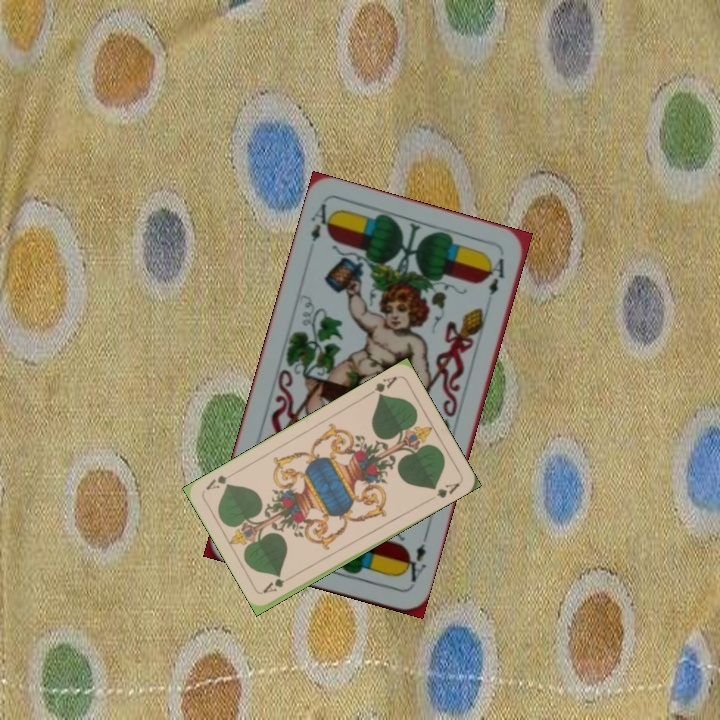EA: (398, 530, 430, 585), (306, 199, 336, 244)
GA: (370, 372, 400, 400), (259, 575, 287, 596)
